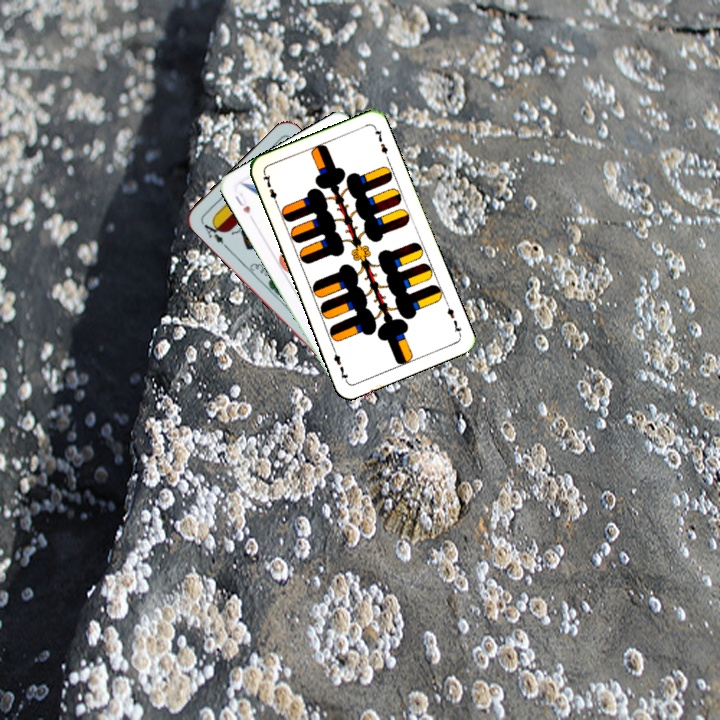E7: (442, 299, 464, 338), (259, 170, 281, 208)
EA: (198, 216, 230, 251)
HU: (231, 188, 253, 217)
